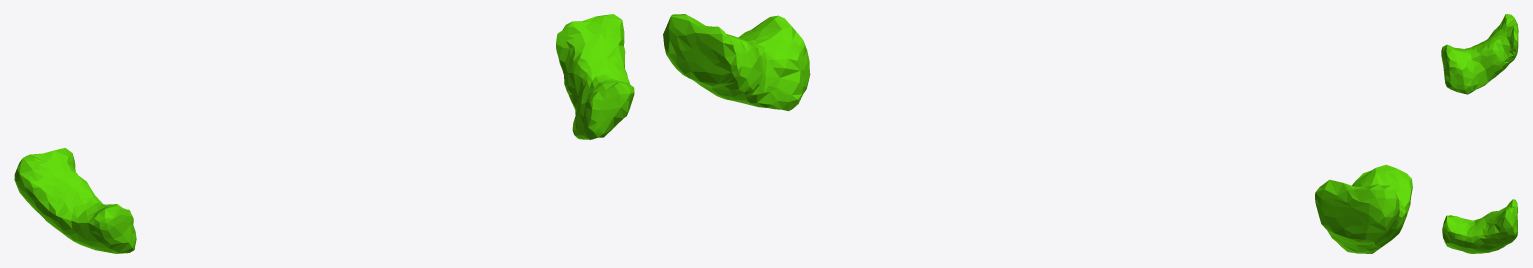
Rendered from 52-proM-area ProM (promotor)-('0.4196', '1.0000', '0.0000').obj.
The picture shows the model from 3 angles, left to right: view 1: azimuth 30°, elevation 25°; view 2: azimuth 150°, elevation 25°; view 3: azimuth 270°, elevation 25°; orthographic projection. The views are drawn at different scales.
Bounding box in the file's own units: 330 × 45.04 × 52.81.
